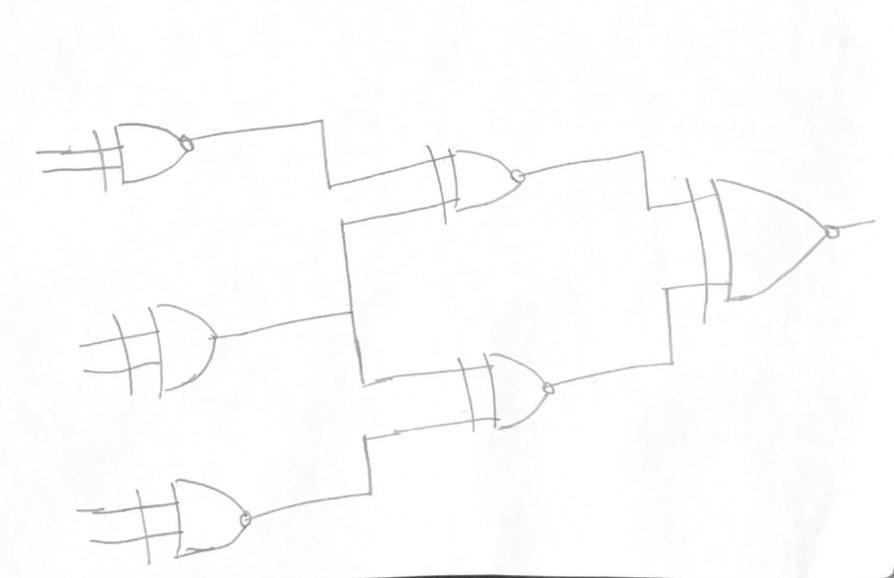XNOR: (680, 159, 848, 333), (119, 474, 281, 566), (448, 337, 571, 447), (413, 127, 548, 224), (88, 110, 213, 195)
XOR: (94, 302, 256, 408)
